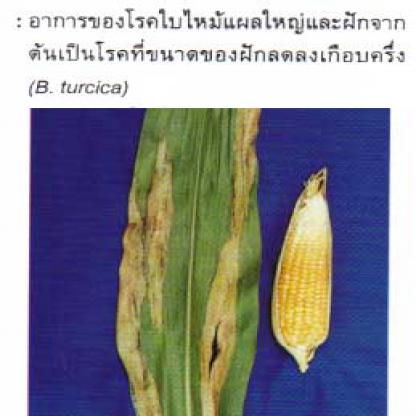corn leaf blight: (122, 108, 267, 415)
